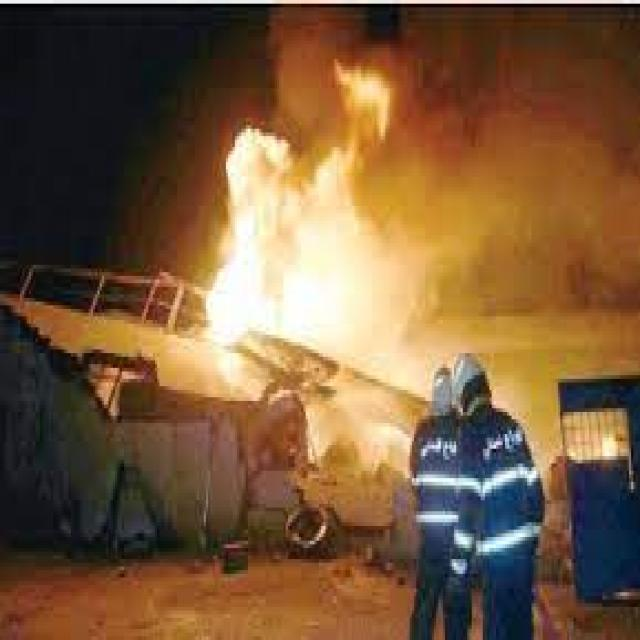fire: (213, 55, 434, 419)
